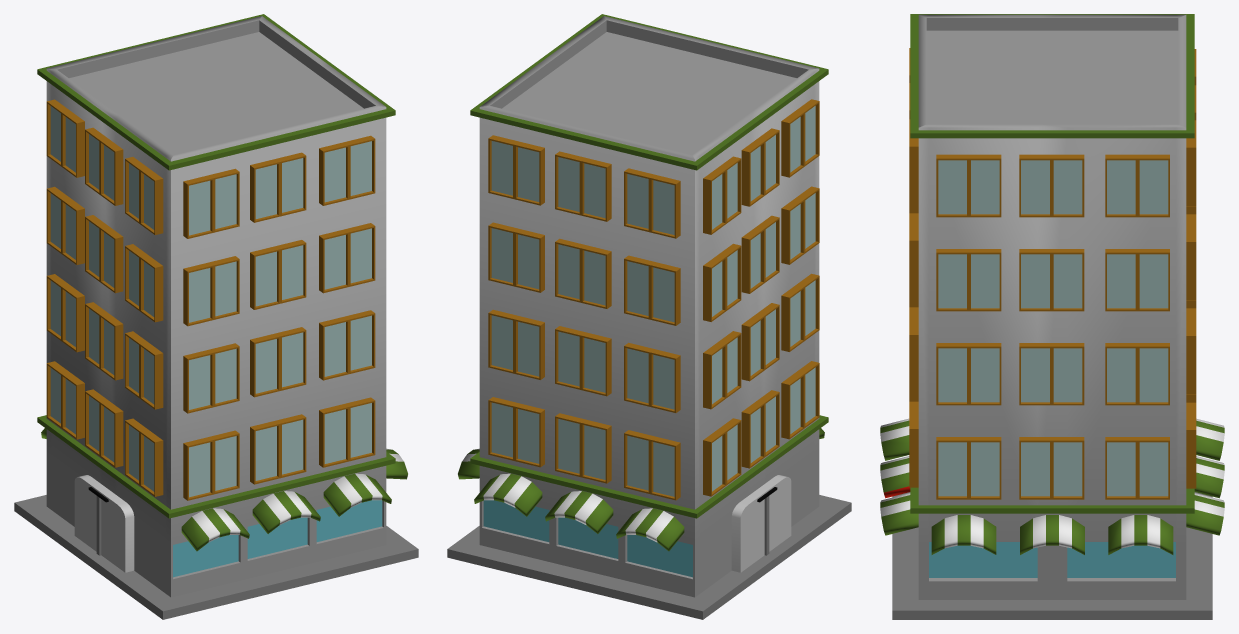
Rendered from House7.fbx.
The picture shows the model from 3 angles, left to right: view 1: azimuth 30°, elevation 25°; view 2: azimuth 150°, elevation 25°; view 3: azimuth 270°, elevation 25°; orthographic projection. The views are drawn at different scales.
Parts seen in each view (by area): view 1: House.007; view 2: House.007; view 3: House.007.
Boxes of the visible parts, bbox=[...] form: House.007: bbox=[14, 14, 418, 619]; House.007: bbox=[447, 14, 851, 619]; House.007: bbox=[880, 14, 1224, 619].
Bounding box in the file's own units: 1022 × 1638 × 1063.
